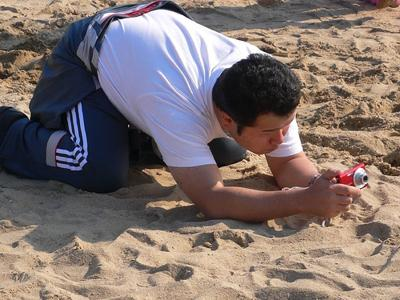person: (2, 4, 359, 225)
